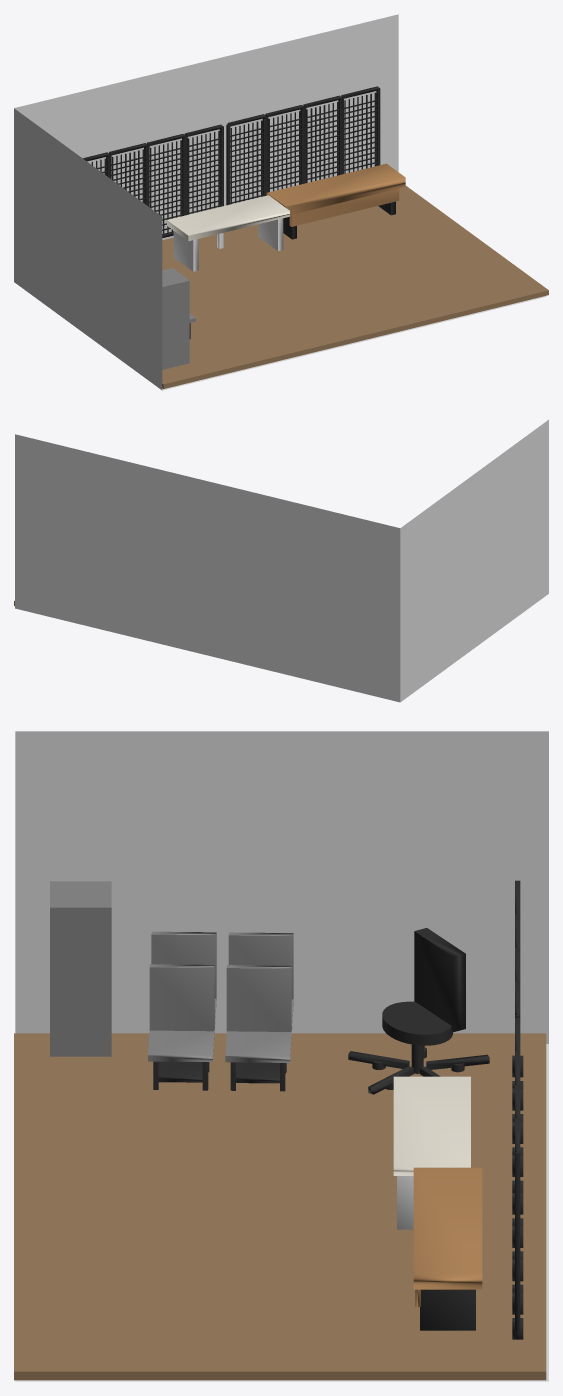
The model's file is lab.idealoka.glb.
3 views of the same model, one above another, from view 1: azimuth 30°, elevation 25°; view 2: azimuth 150°, elevation 25°; view 3: azimuth 270°, elevation 25° (orthographic). The views are drawn at different scales.
Visible parts, largest first — view 1: Plane, Kubus.001, FURN_Sekat_Frame_Kiri.001, FURN_Sekat_Frame_Kiri, FURN_Meja_Kayu_Kaki_Kanan, FURN_Meja_Panel_Top, Kubus; view 2: Plane; view 3: Kubus.001, Plane, FURN_Meja_Kayu_Kaki_Kanan, Kubus, FURN_Meja_Panel_Top, FURN_Kursi_Sandaran.003, FURN_Kursi_Sandaran, FURN_Kursi_Kantor_Sandaran, FURN_Sekat_Frame_Kiri.001, FURN_Kursi_Kantor_Dudukan, FURN_Kursi_Sandaran.001, FURN_Kursi_Sandaran.002 (+5 smaller).
Boxes of the visible parts, x1,y1,x2,y2 form: Plane: (14,14,546,390); Kubus.001: (162,186,548,388); FURN_Sekat_Frame_Kiri.001: (226,86,380,205); FURN_Sekat_Frame_Kiri: (83,124,223,238); FURN_Meja_Kayu_Kaki_Kanan: (266,163,405,239); FURN_Meja_Panel_Top: (167,195,289,271); Kubus: (162,268,189,369); Plane: (15,419,548,702); Kubus.001: (14,1033,546,1380); Plane: (15,731,548,1381); FURN_Meja_Kayu_Kaki_Kanan: (413,1167,482,1330); Kubus: (50,881,111,1056); FURN_Meja_Panel_Top: (393,1076,470,1229); FURN_Kursi_Sandaran.003: (226,965,291,1031); FURN_Kursi_Sandaran: (149,964,214,1031); FURN_Kursi_Kantor_Sandaran: (414,928,465,1032); FURN_Sekat_Frame_Kiri.001: (512,1018,523,1339); FURN_Kursi_Kantor_Dudukan: (382,1001,452,1045); FURN_Kursi_Sandaran.001: (228,932,293,999); FURN_Kursi_Sandaran.002: (151,931,216,999).
Size of the model in its own units: 5.85 by 2.52 by 3.9.
